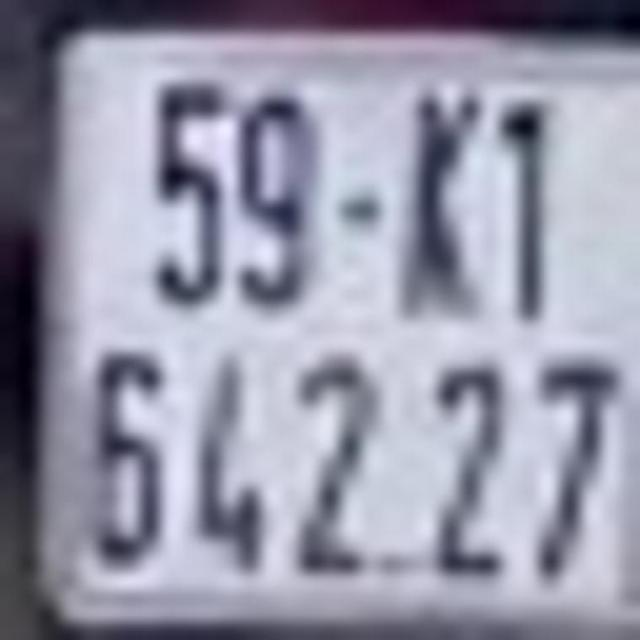1: (495, 107, 557, 320)
2: (430, 344, 507, 581), (293, 344, 367, 578)
4: (195, 335, 276, 582)
5: (145, 75, 228, 311), (88, 344, 171, 571)
7: (532, 351, 622, 593)
9: (235, 85, 322, 306)
K: (404, 80, 487, 325)
